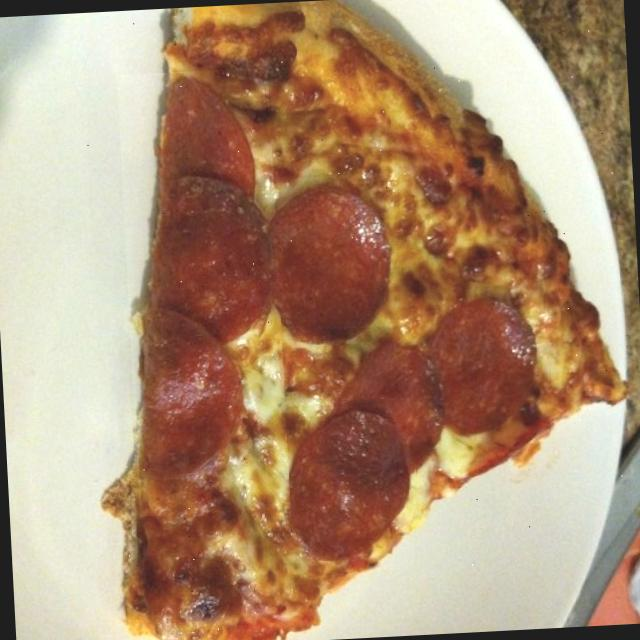pepperoni: (116, 67, 290, 516), (250, 172, 406, 362), (279, 403, 415, 574), (422, 284, 552, 446), (330, 322, 462, 481), (294, 397, 420, 547), (276, 546, 296, 562)
pizza: (106, 0, 625, 640)
